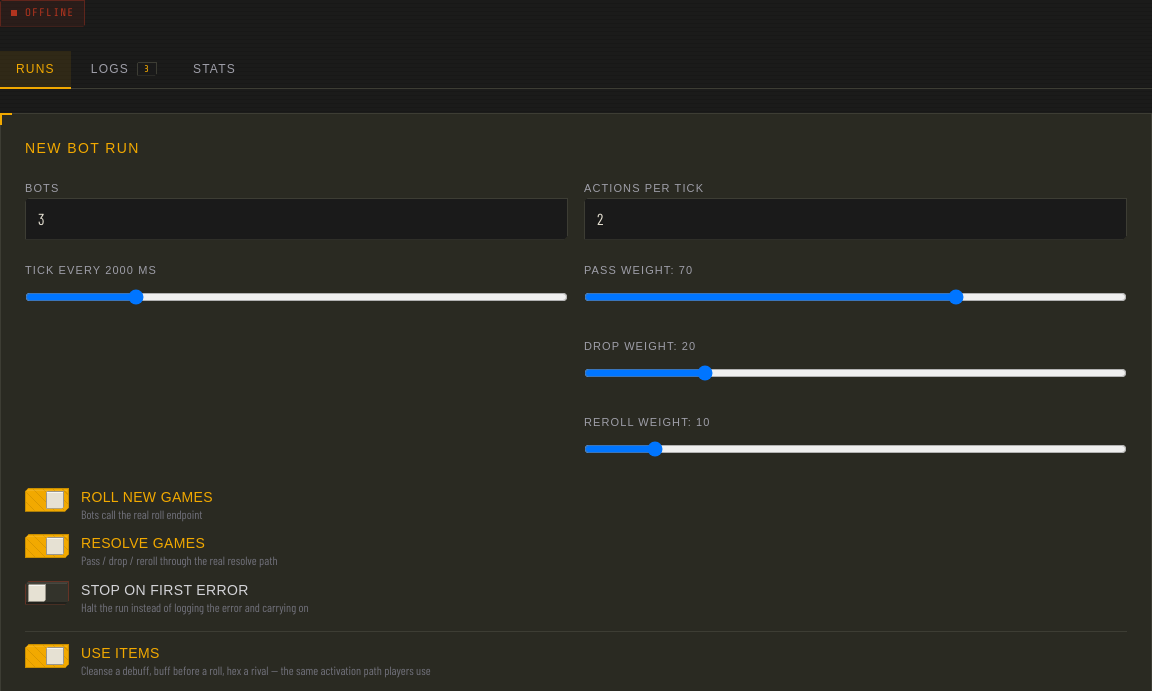
Test: BotsConsole › computes per-action, per-error and per-bot stats from the logs
Click the tab "Stats" at (214, 70), box [177,50,252,88]
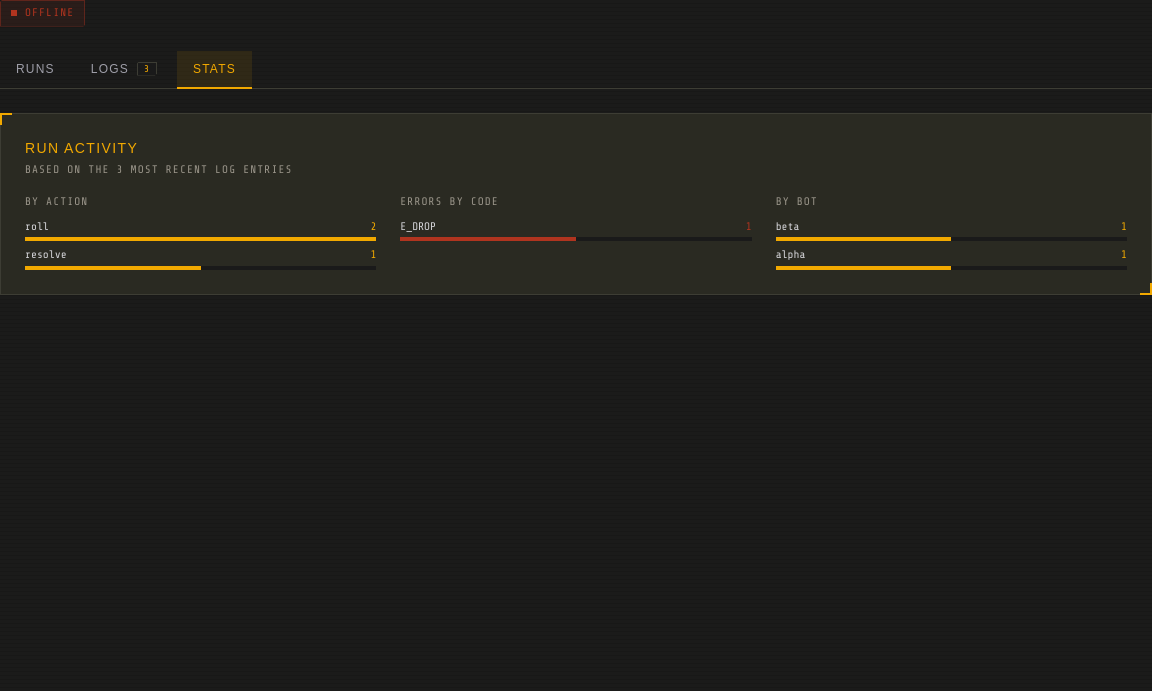
Now the text "By action" shows "roll", box [25,220,49,232]
Now the text "By action" shows "resolve", box [25,248,67,261]
Now the text "Errors by code" shows "E_DROP", box [400,220,436,232]
